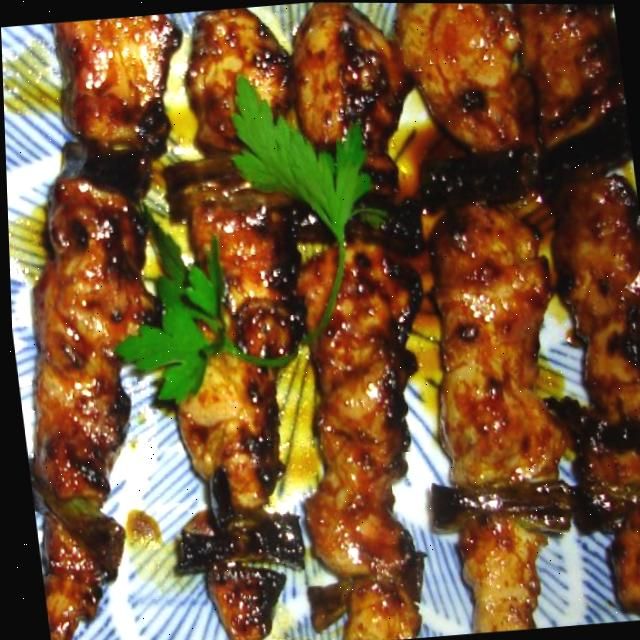烧串烤肉: (0, 0, 597, 559)
